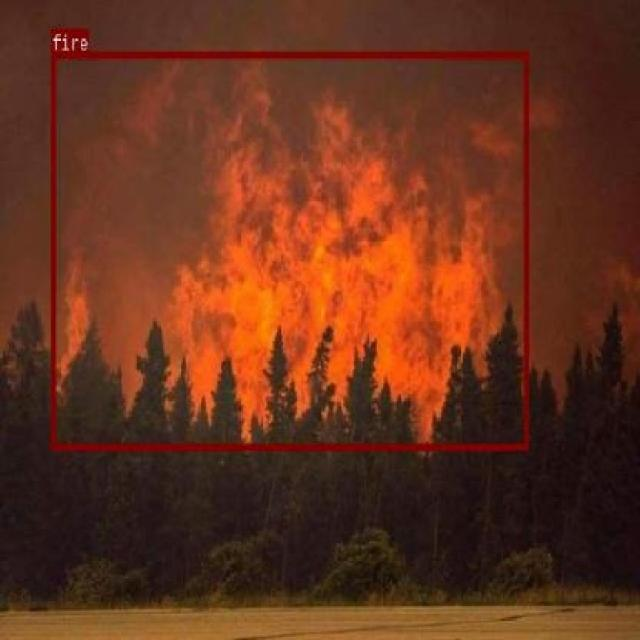Fire: (50, 51, 528, 450)
